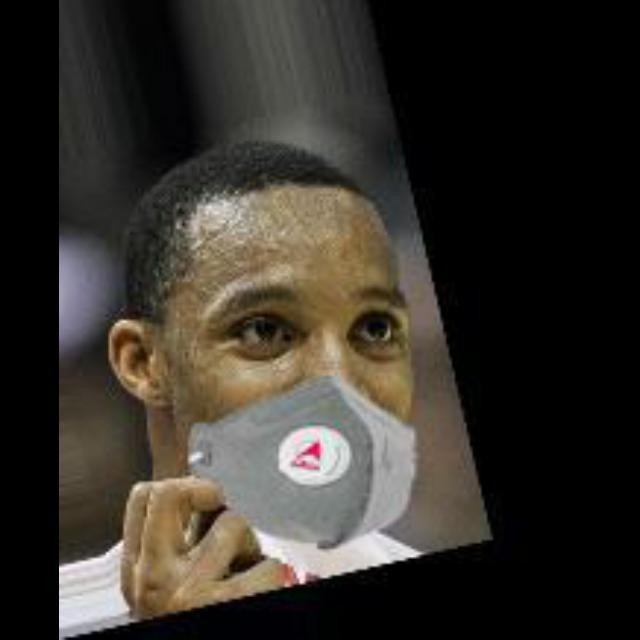suspicion: (92, 146, 436, 552)
